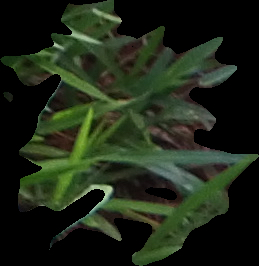grass: (1, 1, 256, 264)
